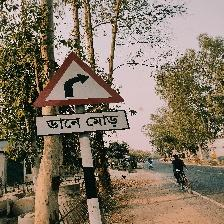Right-turn: (32, 52, 128, 137)
